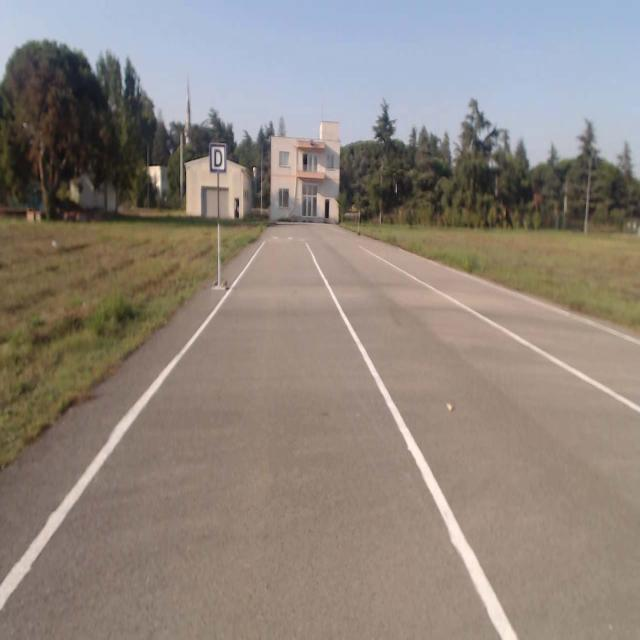durak: (210, 144, 226, 172)
